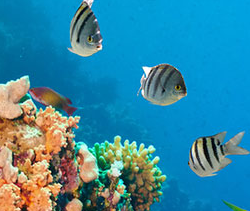fishLarge: (29, 87, 77, 118)
fishRound: (187, 129, 249, 178), (136, 63, 188, 107), (66, 0, 103, 57)
